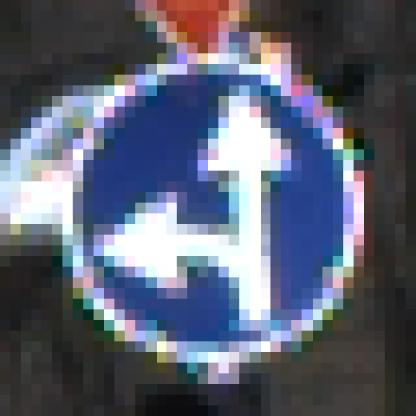Straight or Left: (53, 54, 365, 364)
